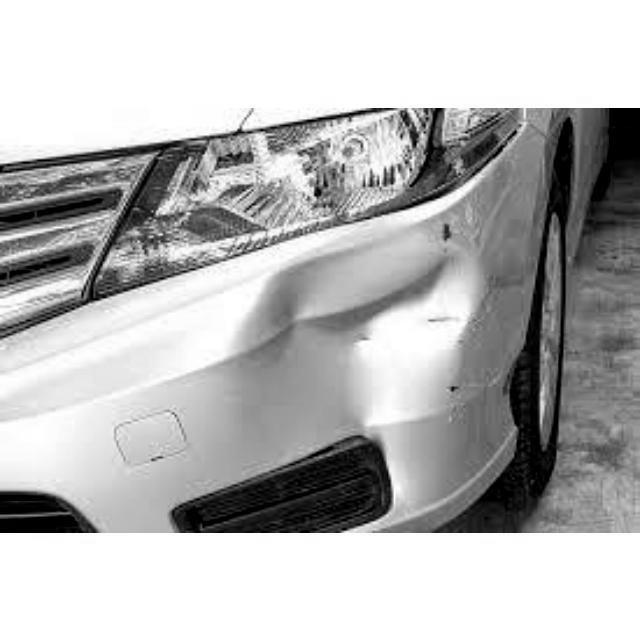front-bumper-dent: (8, 218, 557, 527)
